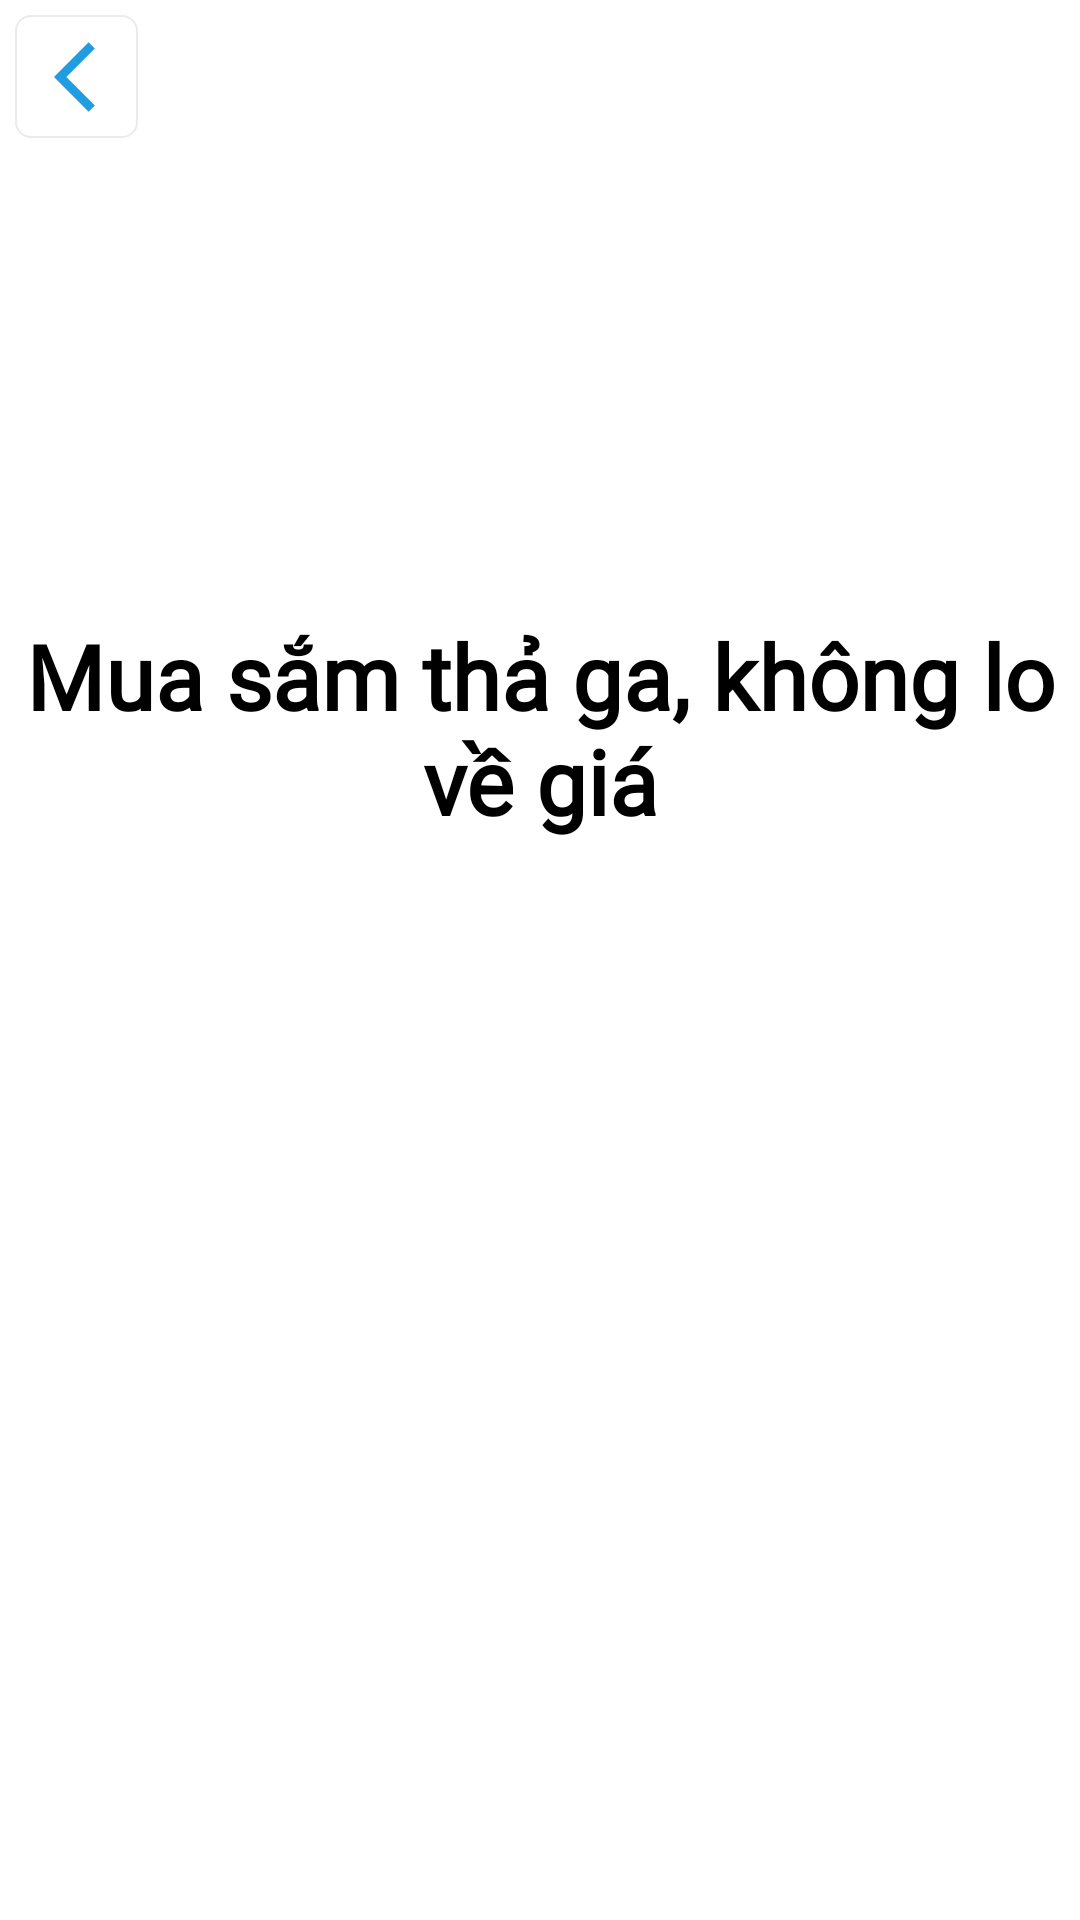

Where icons sit on this 1080px×1920px app screen, as (x1, y1, x2, y2):
arrow back: (54, 42, 95, 112)
